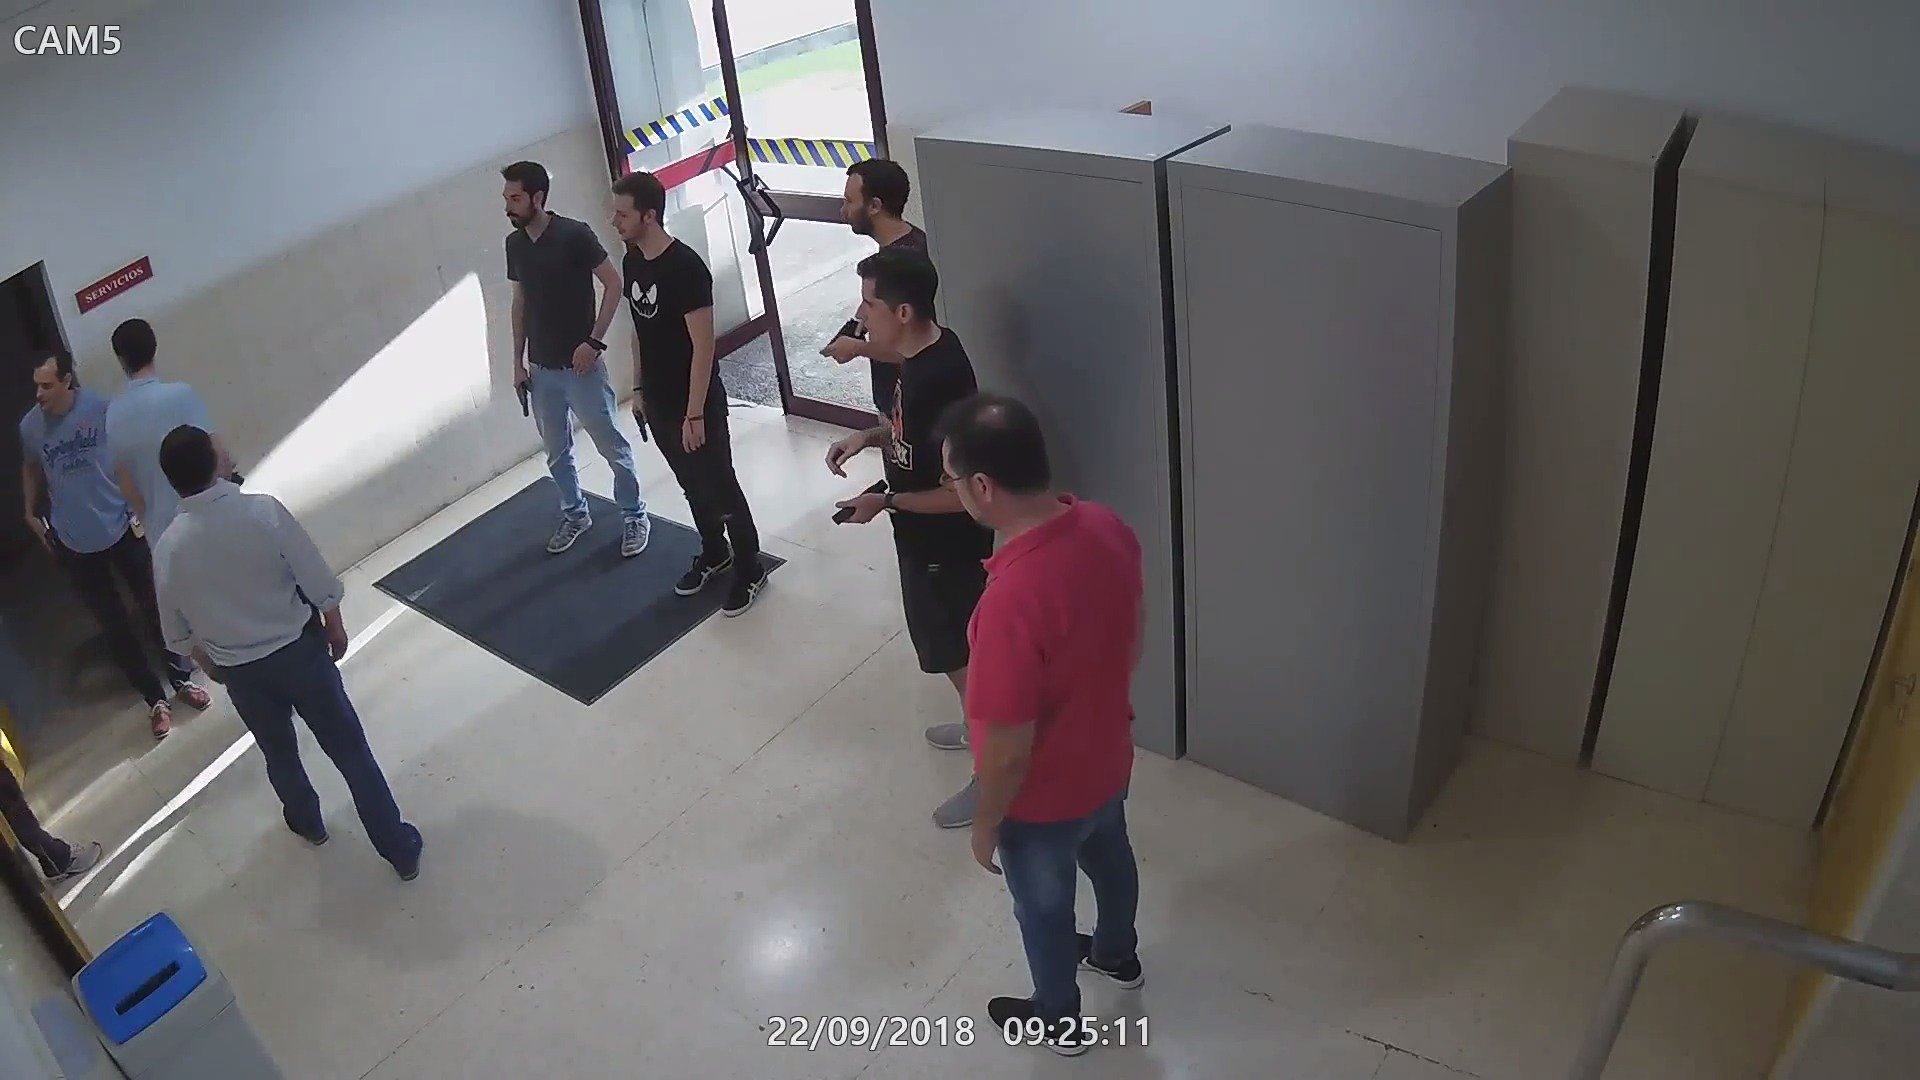pistol: (825, 473, 893, 531), (815, 314, 870, 363), (297, 584, 334, 653), (509, 360, 535, 417), (626, 392, 653, 446), (36, 502, 62, 553)
